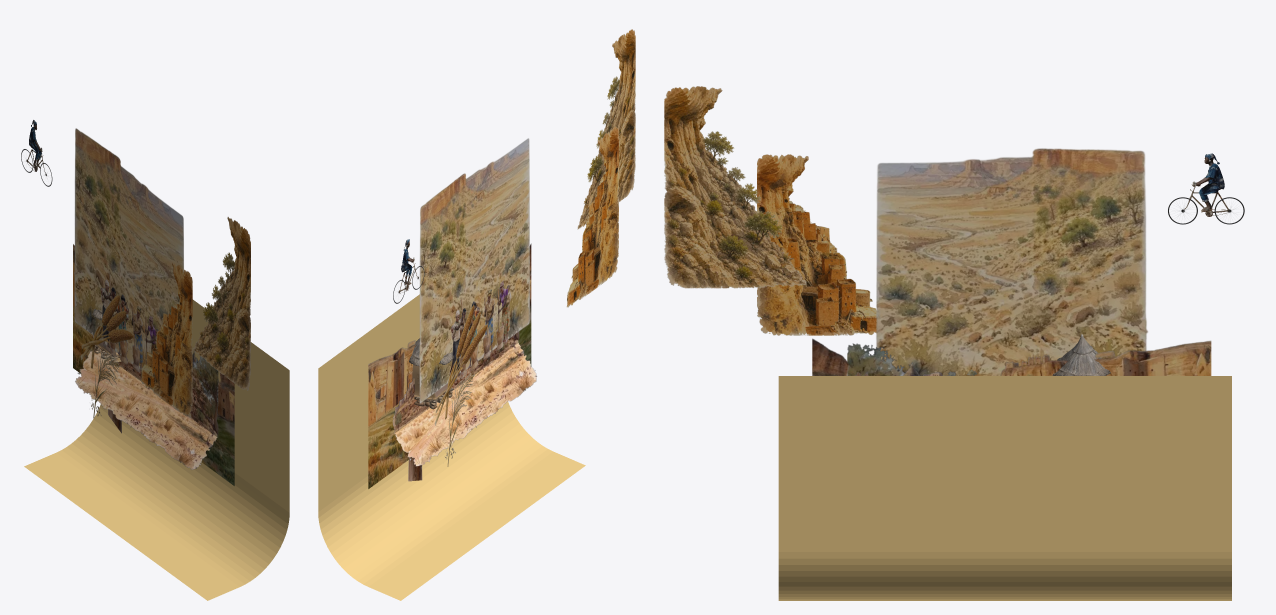
File: scene-bananin.glb
The picture shows the model from 3 angles, left to right: view 1: azimuth 30°, elevation 25°; view 2: azimuth 150°, elevation 25°; view 3: azimuth 270°, elevation 25°; orthographic projection. The views are drawn at different scales.
Visible parts, largest first — view 1: Plane.002, image-removebg-preview, Gemini_Generated_Image_6vfklx6vfklx6vfk-removebg-preview, les roches-no-bg, la falaise-no-bg, image-removebg-preview (1), Gemini_Generated_Image_6eon6d6eon6d6eon-removebg-preview, image-removebg-preview (1).001, image-removebg-preview (2).001; view 2: Plane.002, image-removebg-preview, Gemini_Generated_Image_6vfklx6vfklx6vfk-removebg-preview, image-removebg-preview (1), la falaise-no-bg, les roches-no-bg, Gemini_Generated_Image_6eon6d6eon6d6eon-removebg-preview, image-removebg-preview (1).001, image-removebg-preview (2).001; view 3: Plane.002, image-removebg-preview, les roches-no-bg, la falaise-no-bg, image-removebg-preview (1), Gemini_Generated_Image_6vfklx6vfklx6vfk-removebg-preview, roof.
Part boxes in pixels (box(x1,y1,x2,y2)): Plane.002: box(24, 299, 289, 600); image-removebg-preview: box(74, 128, 183, 369); Gemini_Generated_Image_6vfklx6vfklx6vfk-removebg-preview: box(75, 335, 218, 469); les roches-no-bg: box(193, 217, 250, 390); la falaise-no-bg: box(141, 261, 192, 417); image-removebg-preview (1): box(73, 244, 234, 485); Gemini_Generated_Image_6eon6d6eon6d6eon-removebg-preview: box(100, 279, 158, 372); image-removebg-preview (1).001: box(80, 295, 133, 368); image-removebg-preview (2).001: box(91, 353, 120, 418); Plane.002: box(318, 294, 585, 600); image-removebg-preview: box(419, 138, 529, 403); Gemini_Generated_Image_6vfklx6vfklx6vfk-removebg-preview: box(392, 331, 536, 466); image-removebg-preview (1): box(368, 243, 531, 488); la falaise-no-bg: box(566, 126, 618, 307); les roches-no-bg: box(577, 29, 635, 229); Gemini_Generated_Image_6eon6d6eon6d6eon-removebg-preview: box(451, 280, 511, 381); image-removebg-preview (1).001: box(434, 305, 487, 425); image-removebg-preview (2).001: box(444, 373, 474, 466); Plane.002: box(778, 376, 1231, 600); image-removebg-preview: box(876, 148, 1148, 375); les roches-no-bg: box(664, 86, 806, 288); la falaise-no-bg: box(757, 154, 876, 335); image-removebg-preview (1): box(812, 338, 1211, 375); Gemini_Generated_Image_6vfklx6vfklx6vfk-removebg-preview: box(847, 343, 955, 375); roof: box(1052, 334, 1110, 375).
Size of the model in its own units: 5.11 by 21.75 by 20.23.
Materials: 24 (23 with a texture image).
